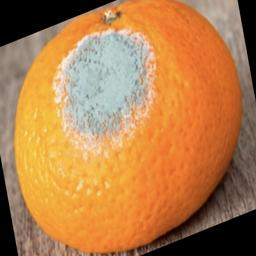Orange Rotten: (5, 8, 247, 249)
